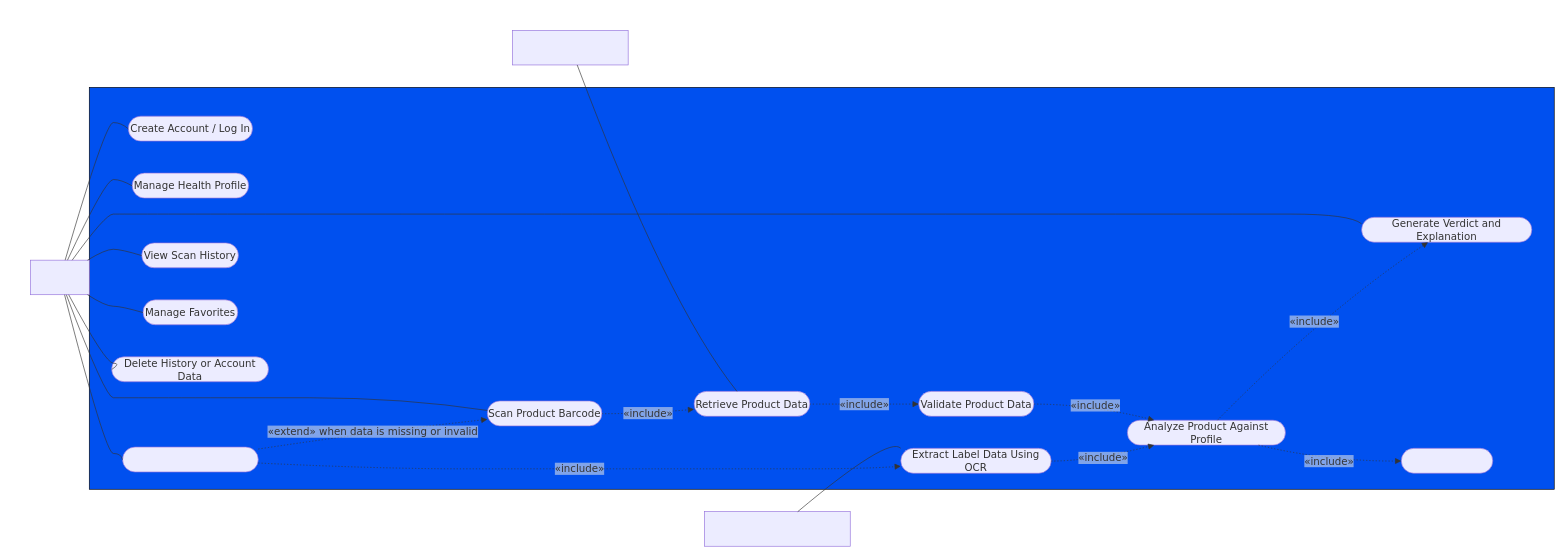
The diagram is 1565 pixels wide and 557 high, and some of its shapes have lost their labels. Each missing label, with the box of its shape:
AI-Assisted OCR Service: (704, 511, 850, 546)
Capture Back-Label Image: (122, 446, 258, 472)
Food Product API: (512, 30, 628, 65)
Save Scan Result: (1401, 448, 1493, 473)
User: (30, 260, 89, 295)
